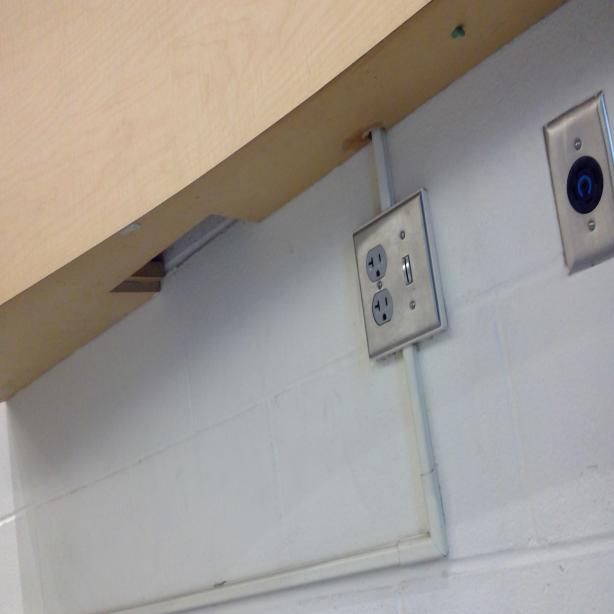typeb: (372, 292, 394, 324), (366, 246, 387, 278)
